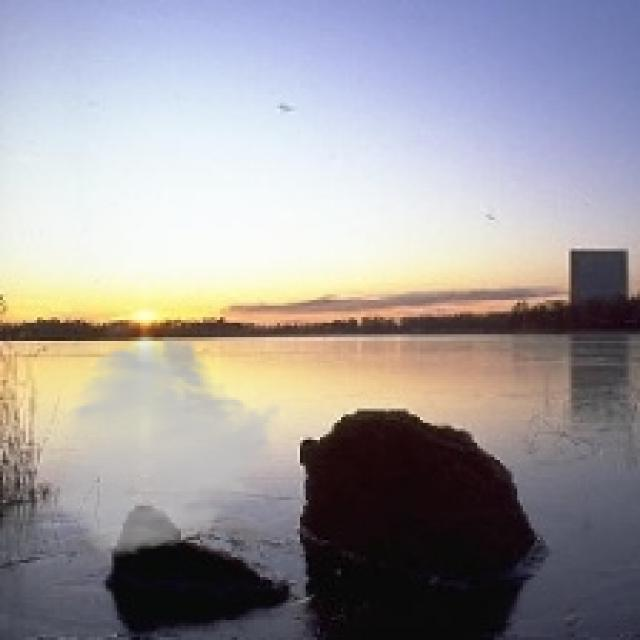Smoke: (51, 332, 286, 557)
